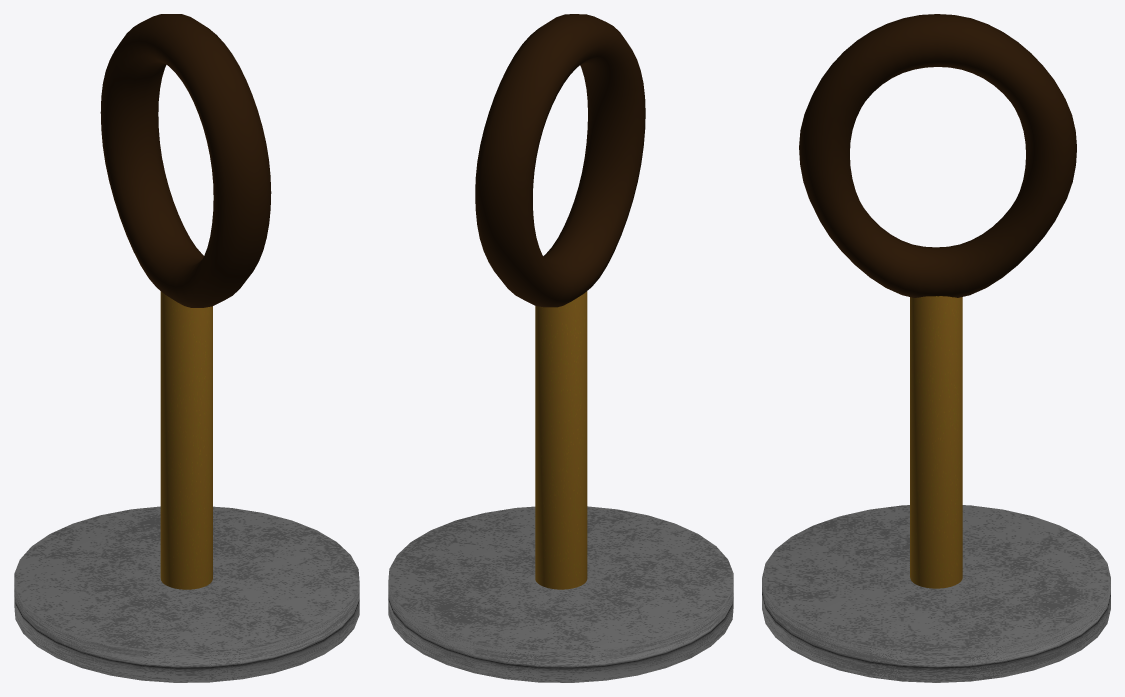
The model's file is stamp 3.glb.
3 renders of one model, left to right at view 1: azimuth 30°, elevation 25°; view 2: azimuth 150°, elevation 25°; view 3: azimuth 270°, elevation 25°, orthographic.
Visible parts, largest first — view 1: Cylinder, Torus, Cylinder.001; view 2: Cylinder, Torus, Cylinder.001; view 3: Cylinder, Torus, Cylinder.001.
Part boxes in pixels (x1=…): Cylinder: x1=14, y1=506, x2=359, y2=682; Torus: x1=100, y1=14, x2=271, y2=307; Cylinder.001: x1=160, y1=291, x2=212, y2=589; Cylinder: x1=388, y1=506, x2=733, y2=682; Torus: x1=475, y1=14, x2=645, y2=307; Cylinder.001: x1=535, y1=291, x2=587, y2=589; Cylinder: x1=762, y1=505, x2=1110, y2=682; Torus: x1=799, y1=14, x2=1076, y2=297; Cylinder.001: x1=910, y1=296, x2=962, y2=588.
Bounding box in the file's own units: 4 × 7.48 × 4.
Materials: 3 (3 with a texture image).
